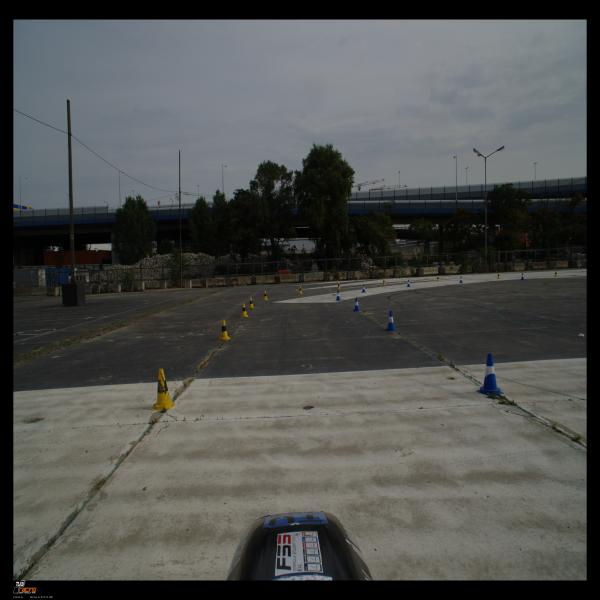blue_cone: (476, 353, 504, 397), (385, 311, 397, 332), (352, 298, 361, 312), (335, 290, 342, 301), (361, 284, 366, 292), (406, 279, 410, 287), (459, 276, 463, 283), (520, 273, 524, 280)
yellow_cone: (151, 368, 175, 411), (218, 320, 231, 340), (240, 303, 248, 318), (248, 297, 255, 309), (263, 290, 268, 300), (298, 286, 303, 294), (337, 282, 341, 290), (554, 270, 558, 277), (382, 279, 386, 285), (497, 272, 500, 279), (436, 275, 439, 282)
